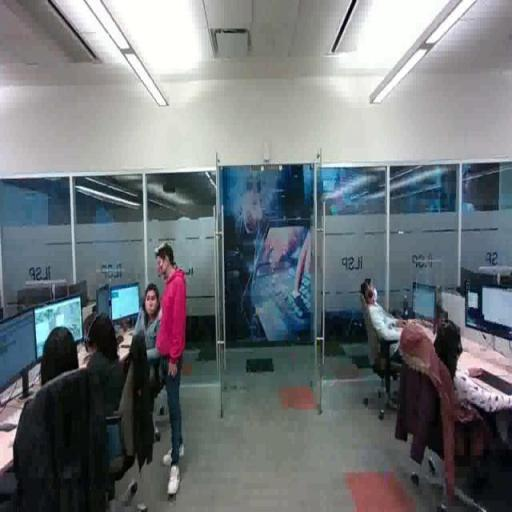person: (434, 316, 512, 512), (13, 324, 89, 512), (154, 246, 194, 503), (360, 275, 441, 384), (77, 314, 127, 453), (135, 284, 167, 439)
